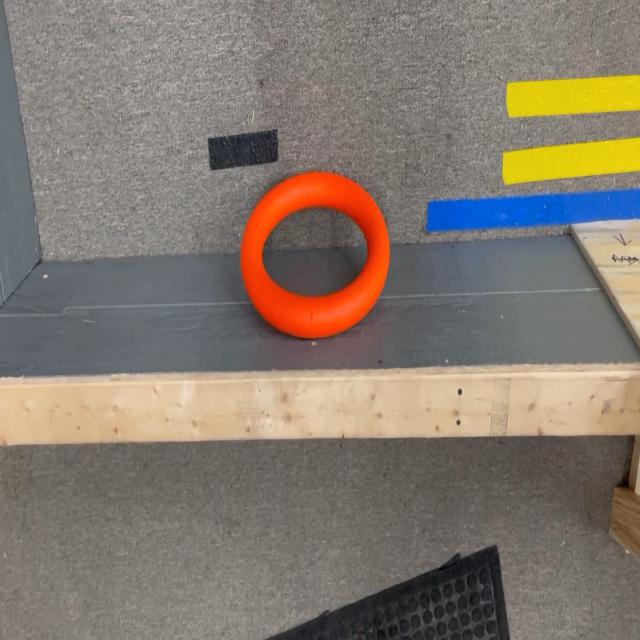note: (240, 173, 390, 339)
